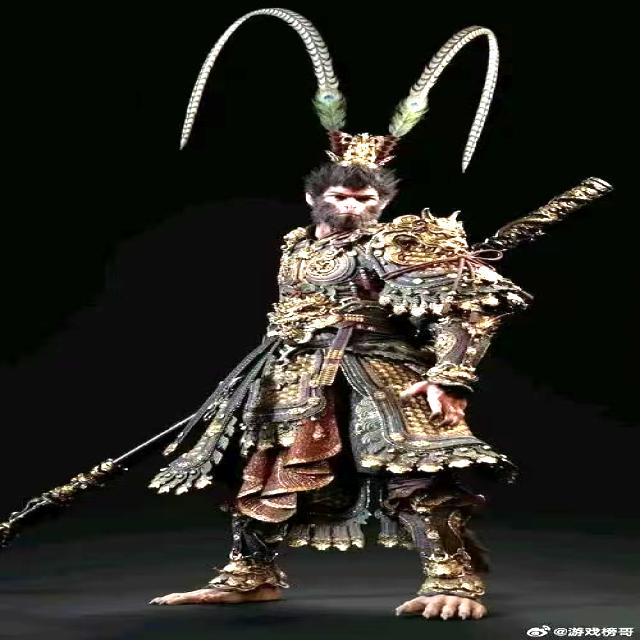Reeves-s Pheasant: (180, 8, 346, 149), (389, 26, 498, 171)
